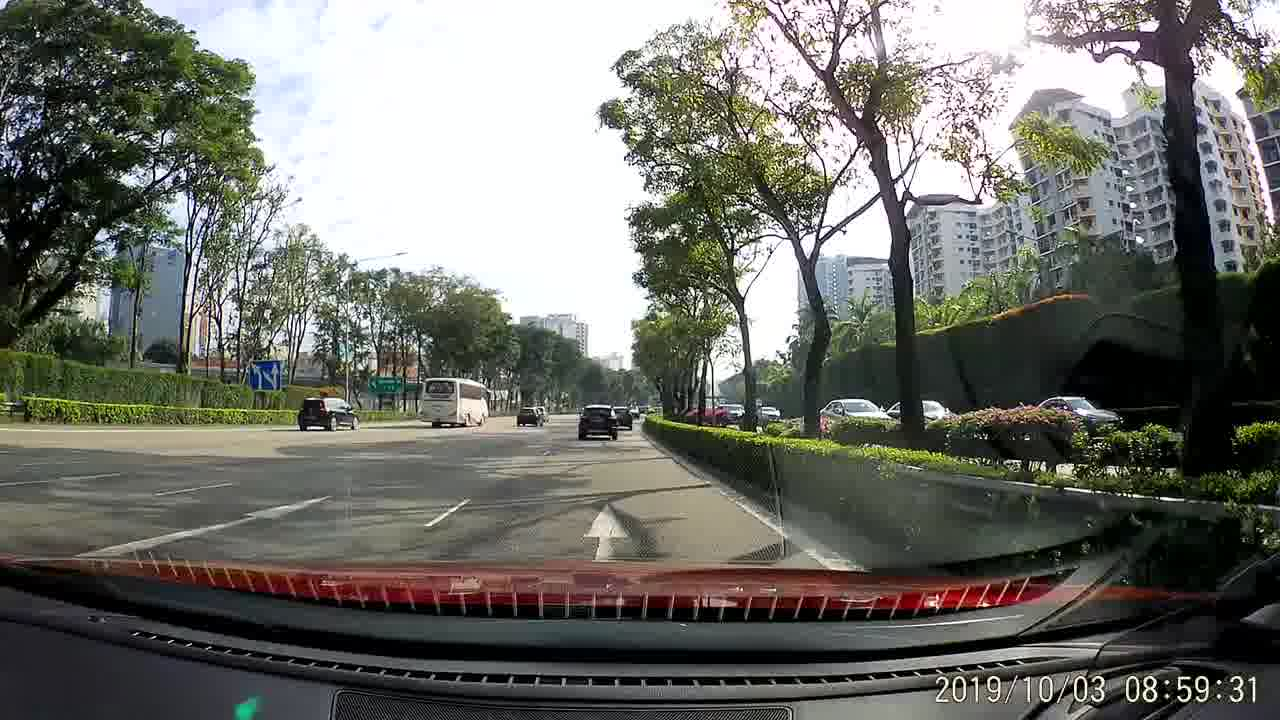bus: (416, 374, 490, 429)
car: (1032, 393, 1125, 432), (297, 393, 359, 432), (886, 396, 959, 427), (817, 399, 893, 427), (578, 401, 619, 442), (515, 404, 545, 429), (716, 402, 747, 425), (610, 403, 634, 429), (756, 401, 782, 422)
